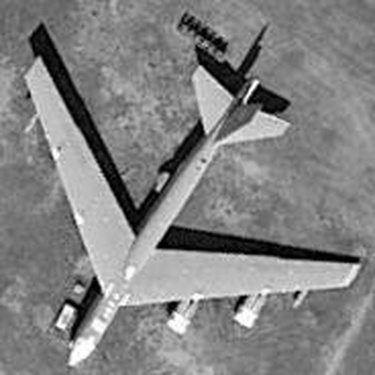airplane: (6, 14, 369, 372)
